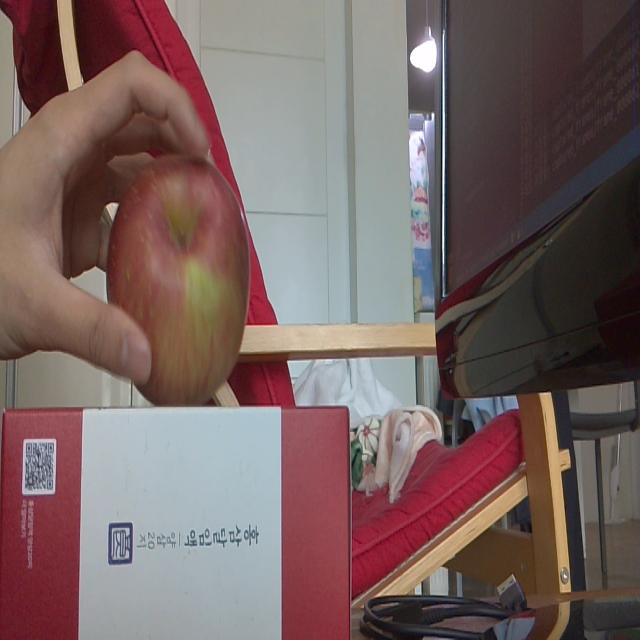apple: (107, 152, 251, 404)
